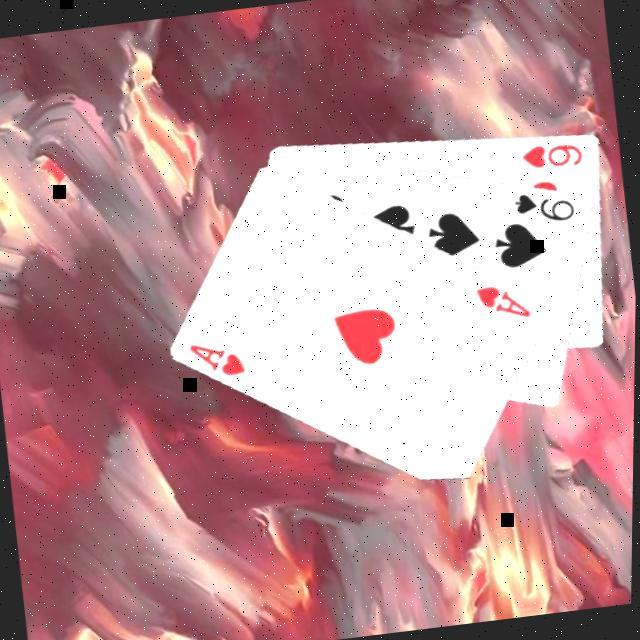6H: (520, 133, 589, 172)
9S: (511, 180, 582, 227)
AH: (472, 275, 538, 324), (187, 332, 253, 381)
